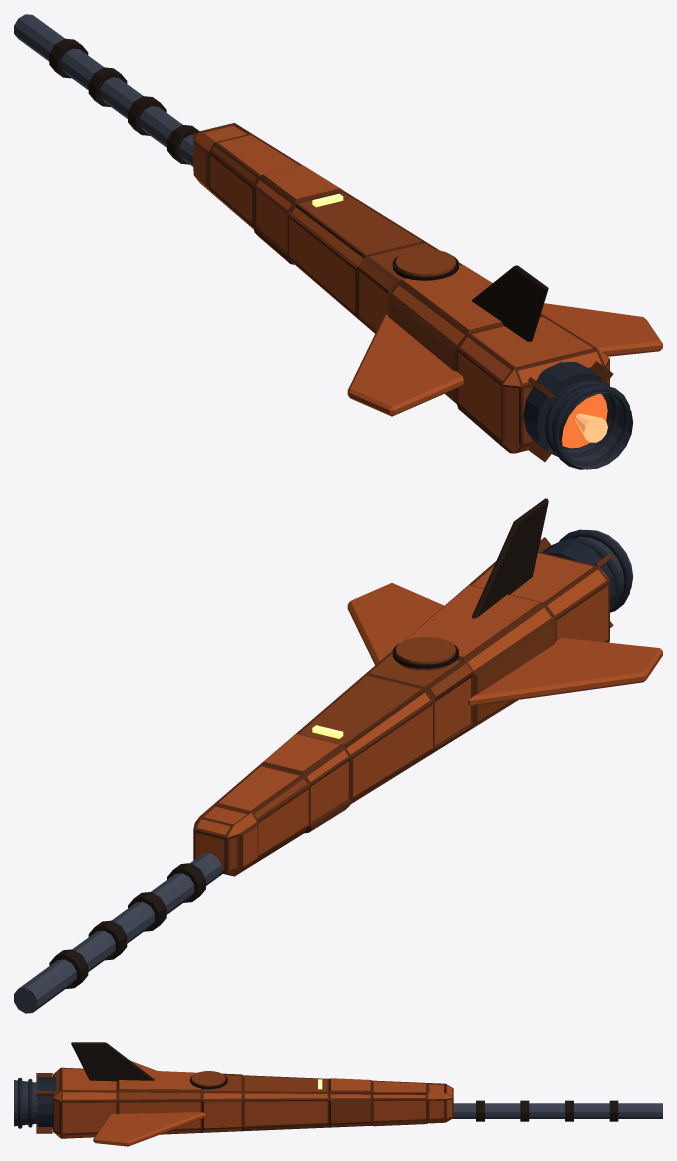
The model's file is sniper.glb.
3 views of the same model, one above another, from view 1: azimuth 30°, elevation 25°; view 2: azimuth 150°, elevation 25°; view 3: azimuth 270°, elevation 25° (orthographic). The views are drawn at different scales.
Visible parts, largest first — view 1: sniper_mesh; view 2: sniper_mesh; view 3: sniper_mesh.
Boxes of the visible parts, box(x1,y1,x2,y2) form: sniper_mesh: box(14, 14, 662, 469); sniper_mesh: box(14, 498, 662, 1013); sniper_mesh: box(14, 1042, 662, 1146).
Bounding box in the file's own units: 4.38 × 2.1 × 14.57.
